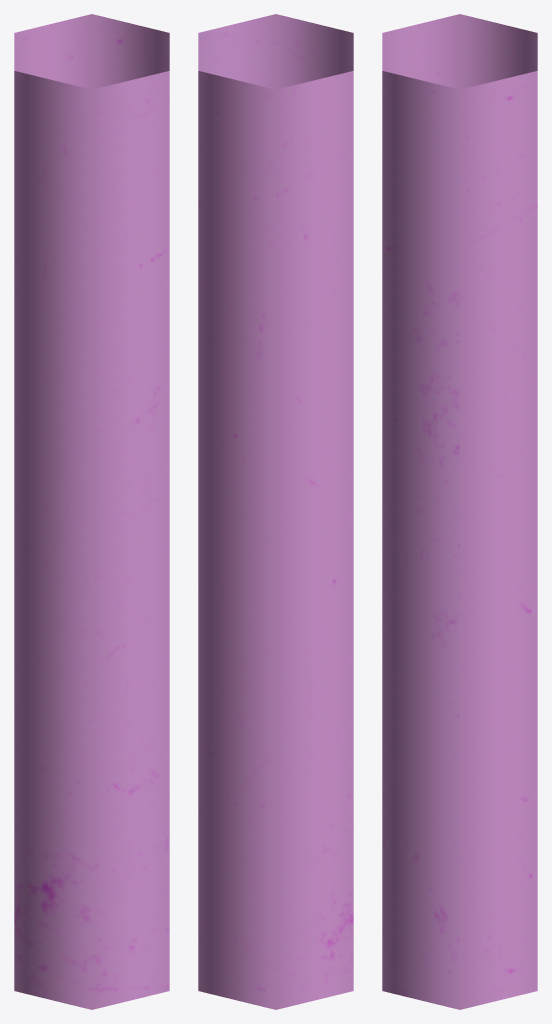
Rendered from PipeSmall_02_SM_Low.fbx.
The picture shows the model from 3 angles, left to right: view 1: azimuth 30°, elevation 25°; view 2: azimuth 150°, elevation 25°; view 3: azimuth 270°, elevation 25°; orthographic projection.
Visible parts, largest first — view 1: Small_Half; view 2: Small_Half; view 3: Small_Half.
Boxes of the visible parts, <box> form: Small_Half: <box>14,14,169,1009</box>; Small_Half: <box>198,14,353,1009</box>; Small_Half: <box>382,14,537,1009</box>.
Bounding box in the file's own units: 8.83 × 50 × 7.64.
1 material, 1 textured.
